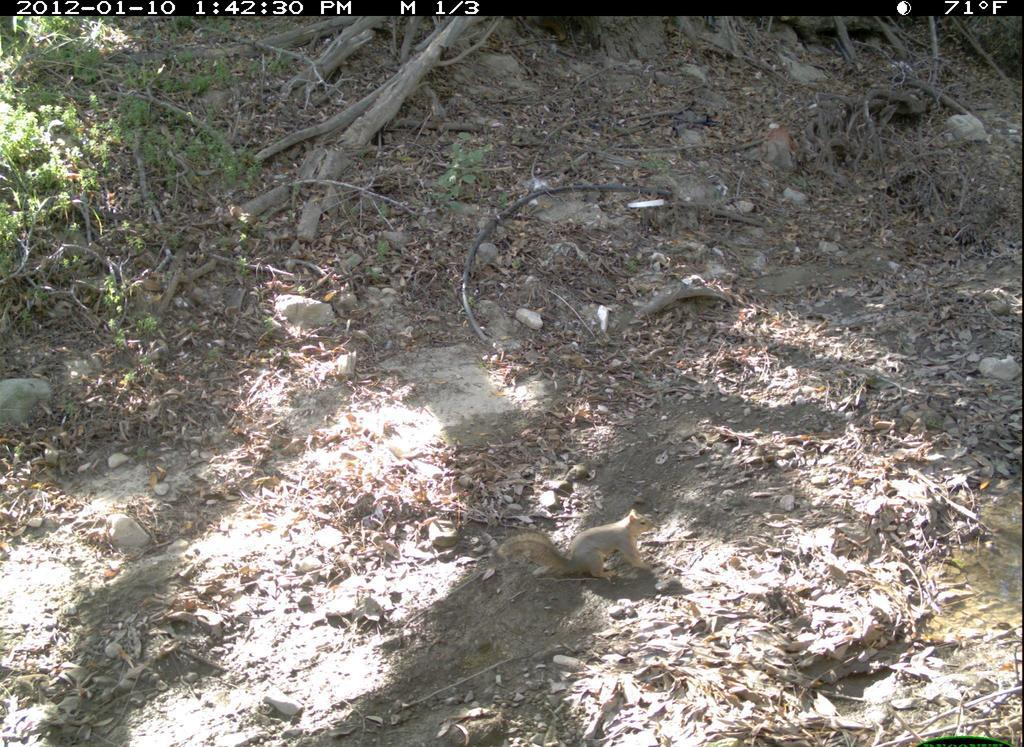squirrel: (497, 493, 665, 600)
